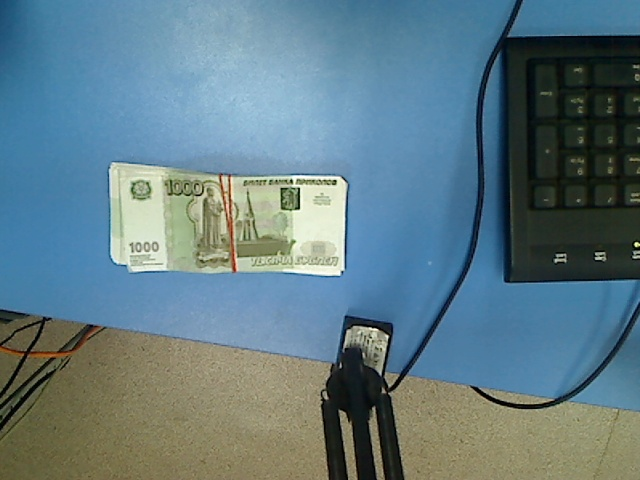banknotes: (106, 160, 349, 278)
